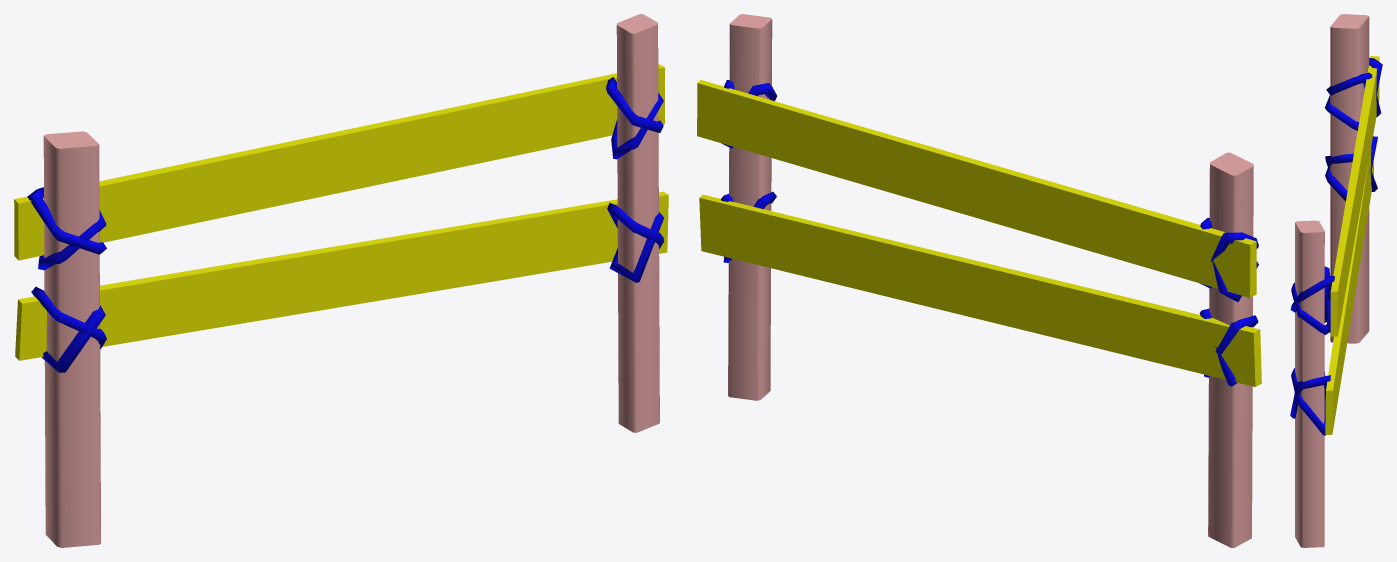
Rendered from fenceTest.fbx.
3 renders of one model, left to right at view 1: azimuth 30°, elevation 25°; view 2: azimuth 150°, elevation 25°; view 3: azimuth 270°, elevation 25°, orthographic. The views are drawn at different scales.
Visible parts, largest first — view 1: fence2; view 2: fence2; view 3: fence2.
Boxes of the visible parts, x1=… form: fence2: x1=14, y1=14, x2=668, y2=547; fence2: x1=697, y1=14, x2=1261, y2=547; fence2: x1=1290, y1=14, x2=1382, y2=547.
Bounding box in the file's own units: 2.69 × 1.66 × 0.4387.
